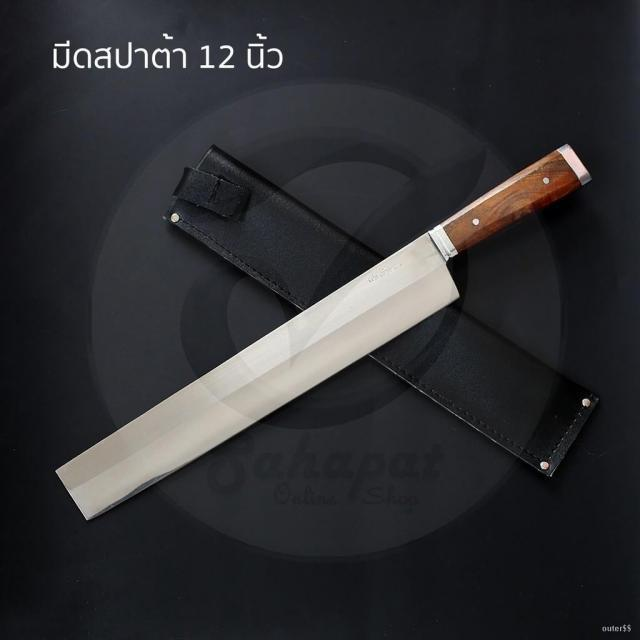eto: (40, 134, 601, 537)
